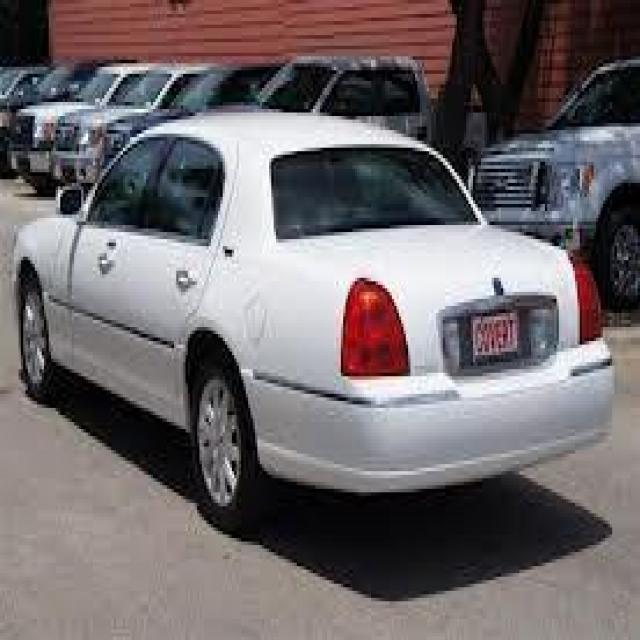Car: (19, 96, 606, 614)
